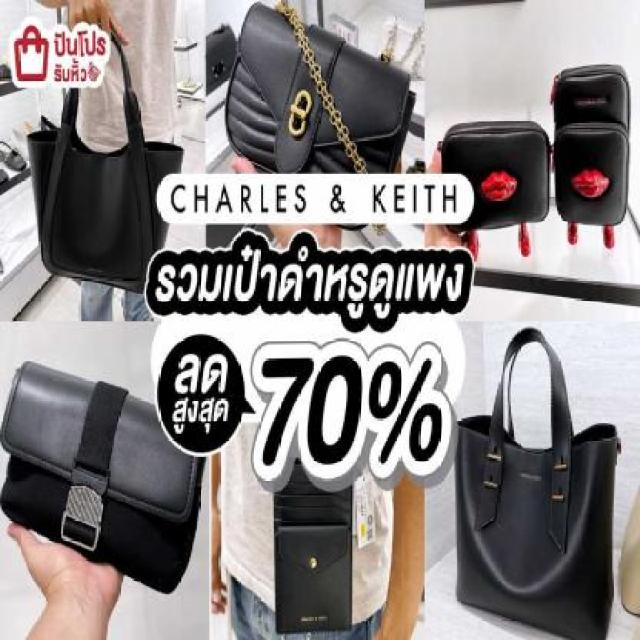Bag: (442, 320, 633, 640), (0, 358, 208, 614), (222, 415, 408, 640), (25, 78, 187, 318), (225, 0, 408, 194), (437, 79, 554, 266), (548, 50, 628, 256)
